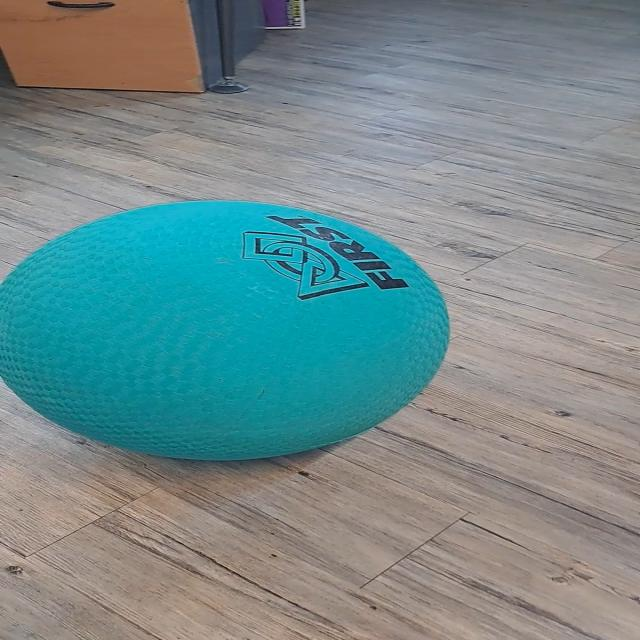ALGAE: (1, 198, 451, 462)
